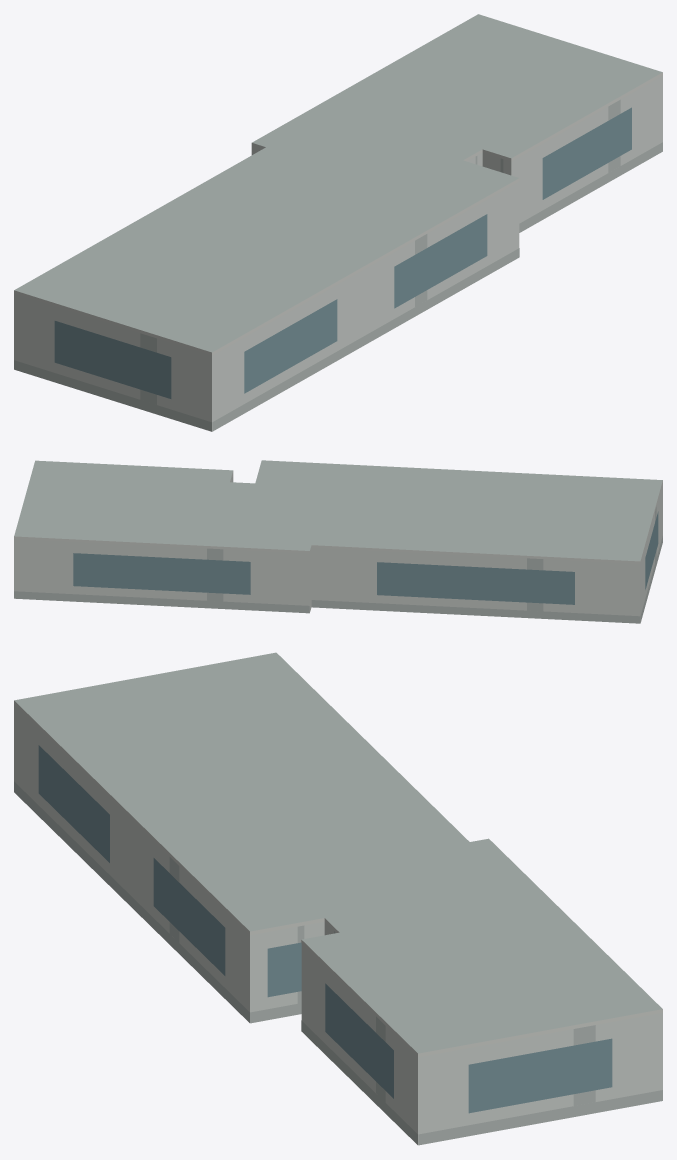
The model's file is residential-4836b635-78e4-49b7-8e68-d39c85680c13.glb.
The picture shows the model from 3 angles, top to bottom: view 1: azimuth 30°, elevation 25°; view 2: azimuth 150°, elevation 25°; view 3: azimuth 270°, elevation 25°; orthographic projection. The views are drawn at different scales.
Parts seen in each view (by area): view 1: residential-4836b635-78e4-49b7-8e68-d39c85680c13.tmp; view 2: residential-4836b635-78e4-49b7-8e68-d39c85680c13.tmp; view 3: residential-4836b635-78e4-49b7-8e68-d39c85680c13.tmp.
Part boxes in pixels (bbox=[...]): residential-4836b635-78e4-49b7-8e68-d39c85680c13.tmp: bbox=[14, 14, 662, 431]; residential-4836b635-78e4-49b7-8e68-d39c85680c13.tmp: bbox=[14, 460, 662, 623]; residential-4836b635-78e4-49b7-8e68-d39c85680c13.tmp: bbox=[14, 652, 662, 1145].
Size of the model in its own units: 46.85 by 5 by 32.03.
